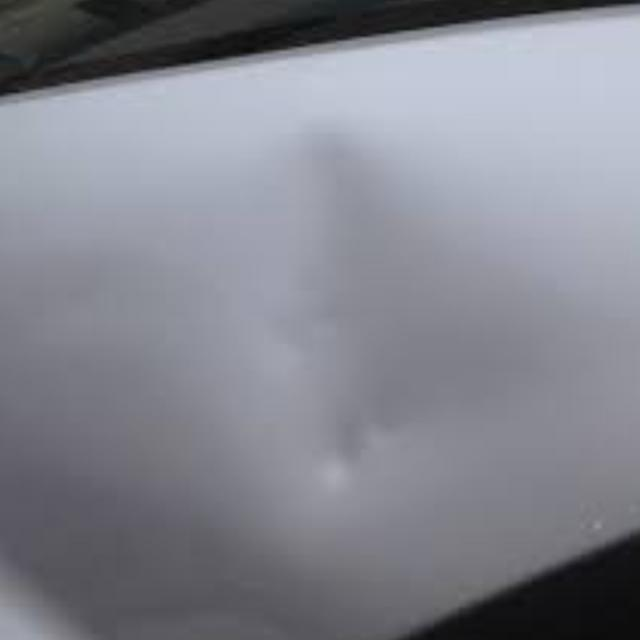dents: (230, 106, 506, 506)
